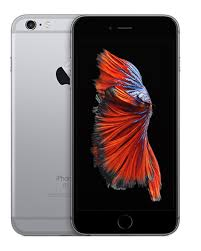iphone: (67, 10, 181, 236)
iphone6: (69, 13, 183, 239)
